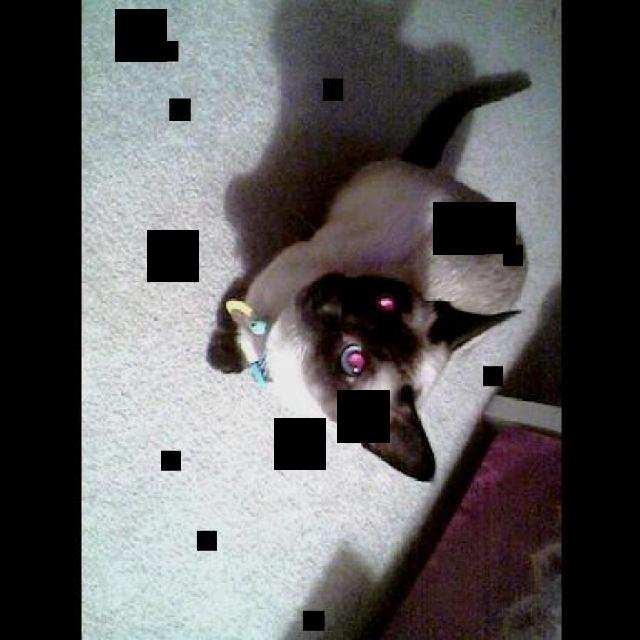unauthorized: (211, 68, 531, 482)
